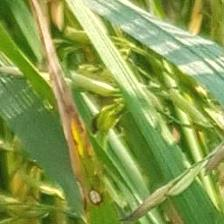2 BacterialBlight: (22, 2, 106, 204)
